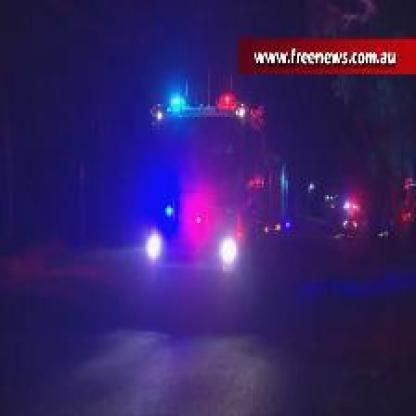other: (199, 227, 242, 268), (329, 190, 368, 226), (184, 181, 206, 238), (144, 223, 161, 263)
